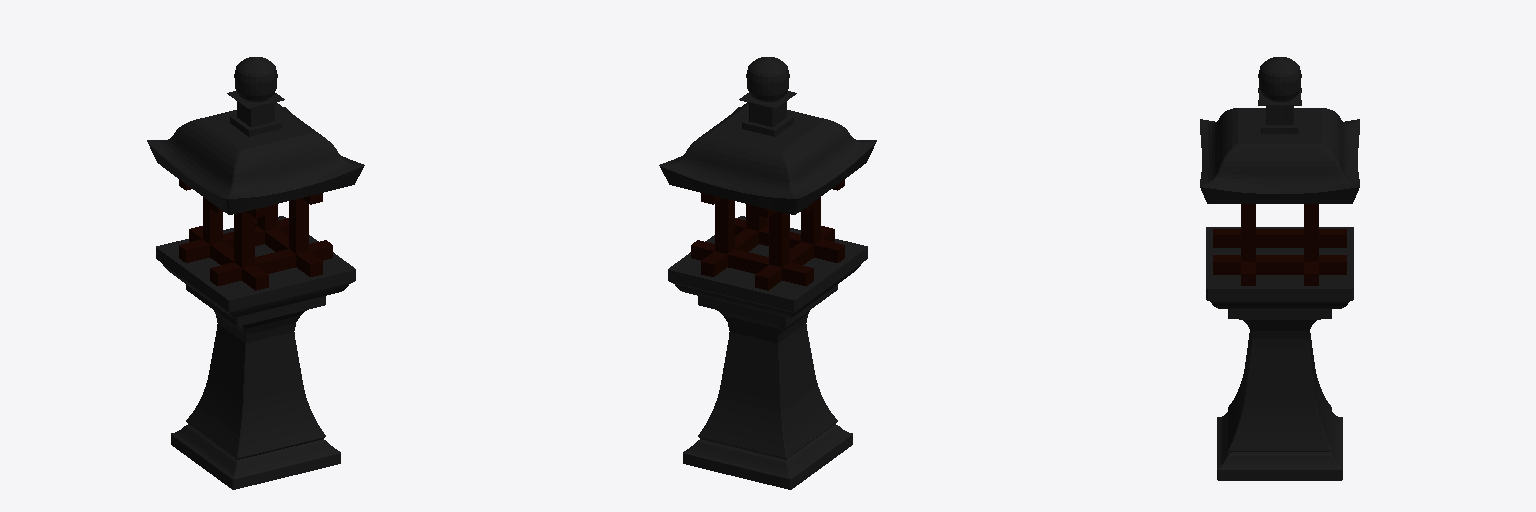
Rendered from Toro.obj.
3 views of the same model, side by side, from view 1: azimuth 30°, elevation 25°; view 2: azimuth 150°, elevation 25°; view 3: azimuth 270°, elevation 25° (orthographic).
Parts seen in each view (by area): view 1: base, tree, stone_ball; view 2: base, tree, stone_ball; view 3: base, tree, stone_ball.
Boxes of the visible parts, <box> form: base: <box>147,91,364,489</box>; tree: <box>179,179,332,290</box>; stone_ball: <box>234,57,277,101</box>; base: <box>659,91,876,489</box>; tree: <box>691,179,844,290</box>; stone_ball: <box>746,57,789,101</box>; base: <box>1200,88,1359,480</box>; tree: <box>1213,204,1346,285</box>; stone_ball: <box>1258,57,1301,101</box>.
Bounding box in the file's own units: 0.4316 × 1.17 × 0.4316.